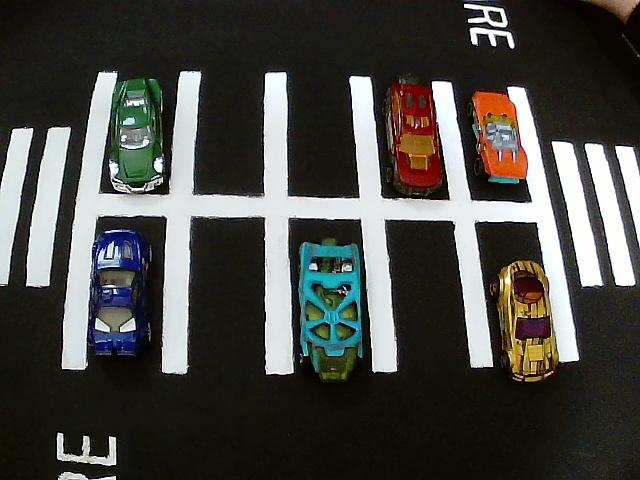Carro: (298, 243, 366, 384), (89, 226, 150, 359), (495, 261, 558, 385), (108, 78, 168, 195), (389, 81, 446, 199), (470, 91, 529, 189)
